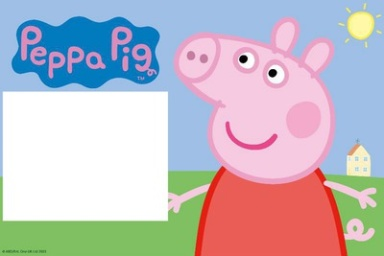Peppa: (167, 16, 377, 256)
